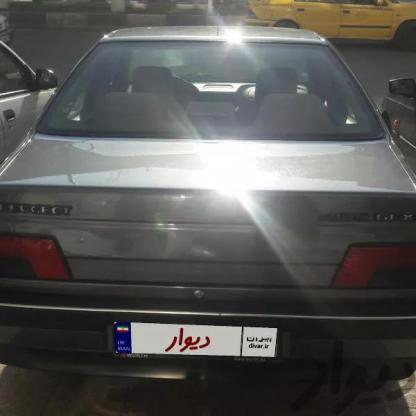Car: (0, 20, 416, 378), (237, 3, 409, 47), (373, 65, 416, 172), (0, 47, 33, 142)
